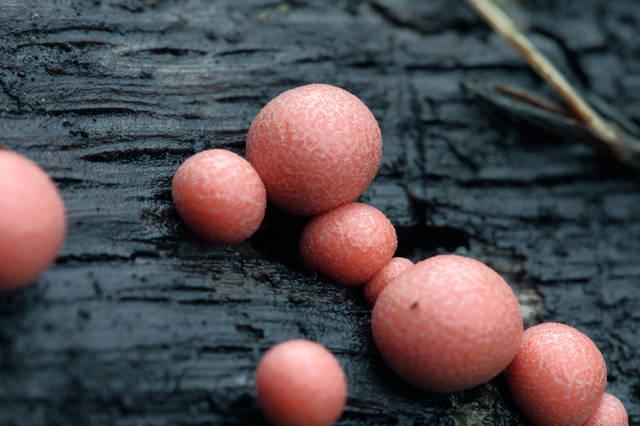poisonous_mushroom: (169, 80, 628, 423), (369, 252, 523, 392), (244, 81, 383, 214), (506, 320, 608, 424), (0, 146, 68, 291), (170, 146, 267, 243), (298, 201, 398, 284), (254, 337, 348, 424), (362, 255, 415, 306)
